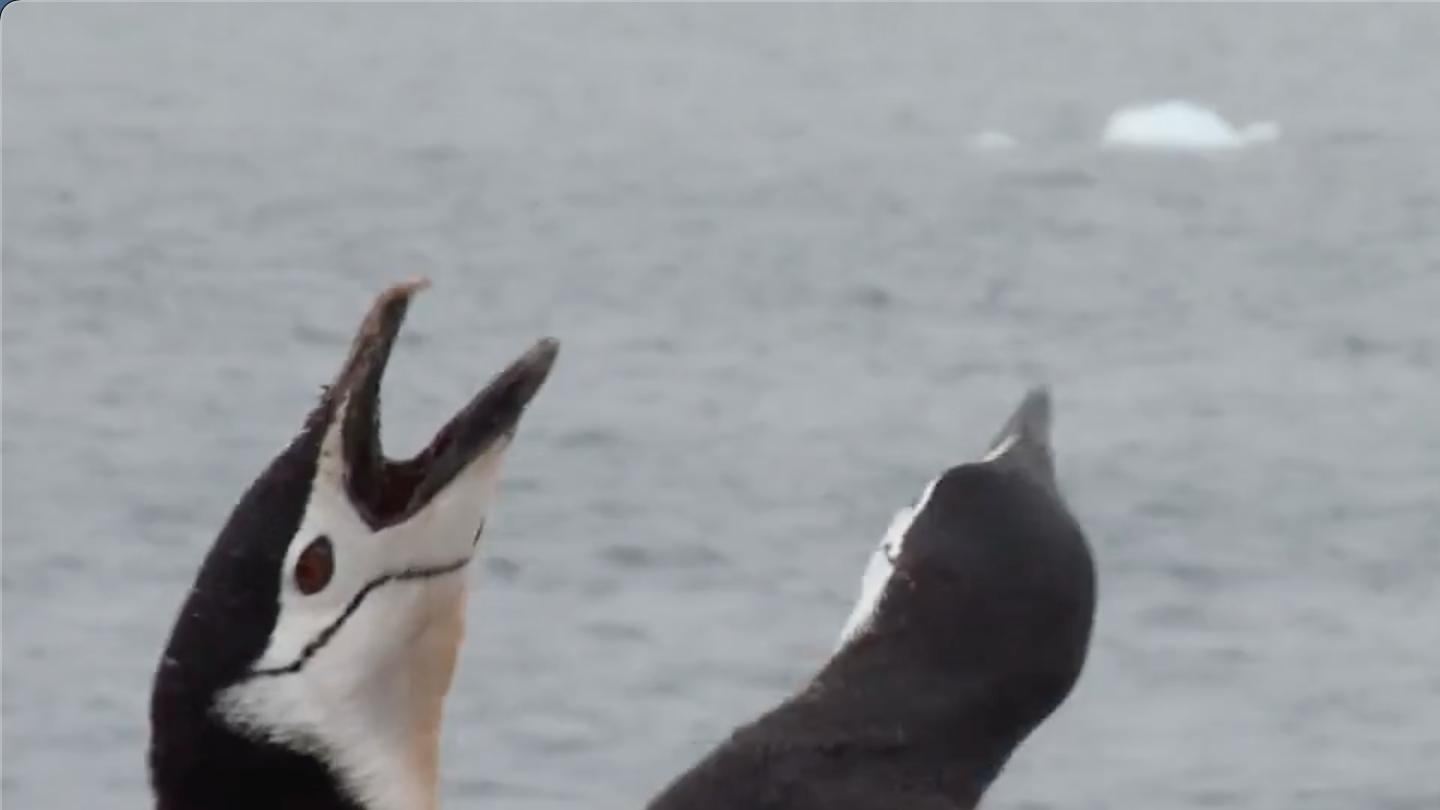Chinstrap Penguin: (0, 236, 533, 810), (533, 353, 1123, 810)
